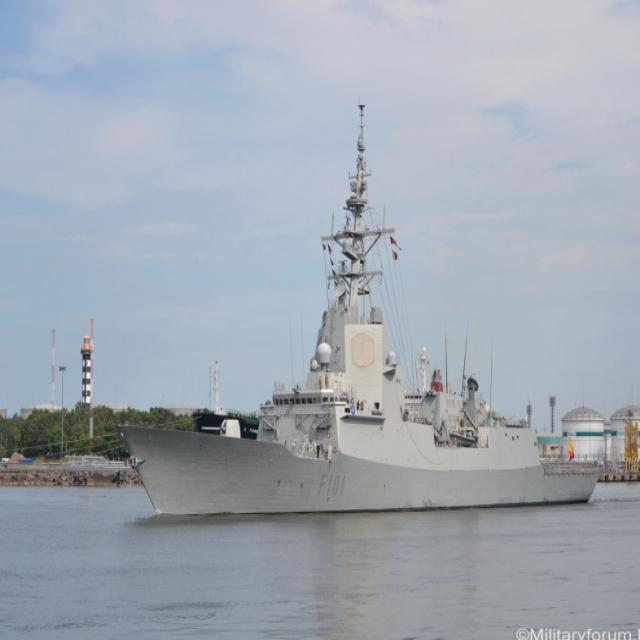Fragata: (111, 105, 608, 526)
